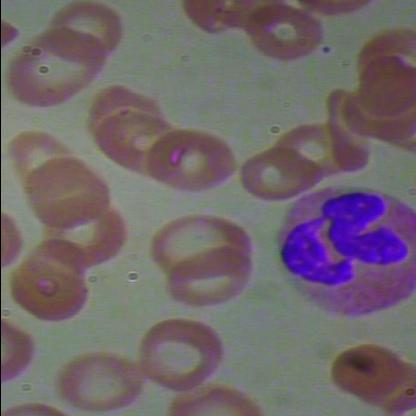RBC: (8, 28, 112, 108), (141, 209, 257, 279), (134, 316, 235, 395), (22, 154, 112, 238), (143, 124, 242, 198), (163, 243, 255, 311), (57, 346, 144, 416), (45, 0, 135, 60), (246, 4, 332, 66), (242, 145, 322, 205), (331, 340, 407, 400)
WBC: (273, 176, 415, 329)
